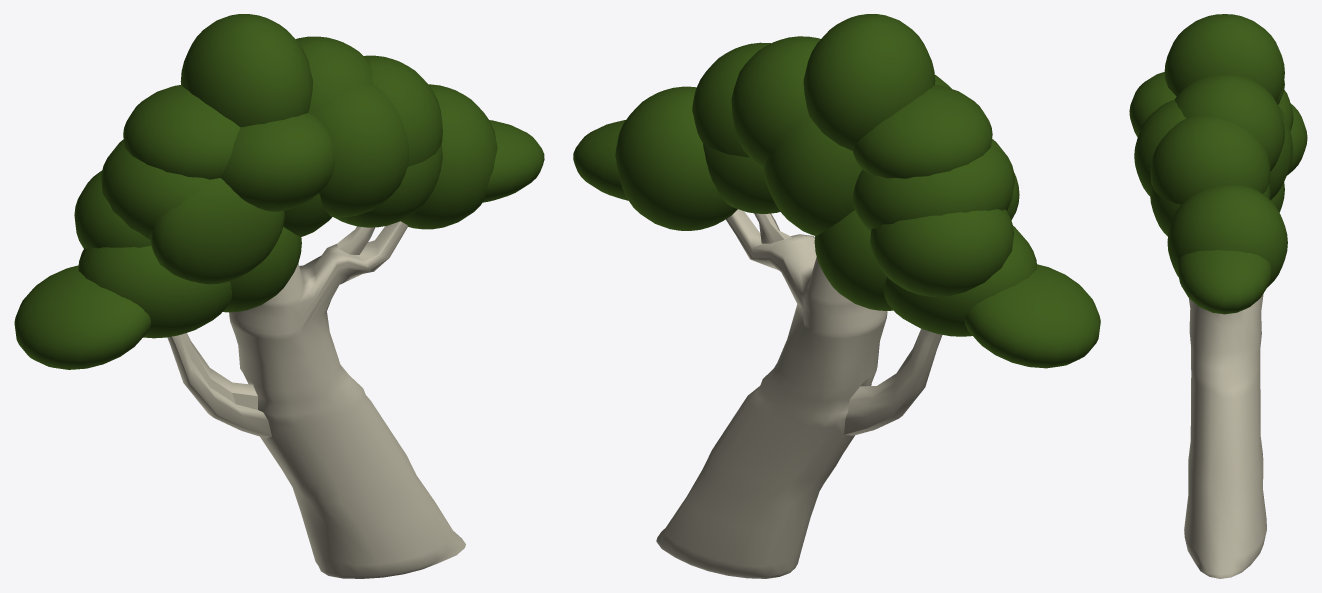
File: Cypress Tree.fbx
3 renders of one model, left to right at view 1: azimuth 30°, elevation 25°; view 2: azimuth 150°, elevation 25°; view 3: azimuth 270°, elevation 25°, orthographic. The views are drawn at different scales.
Parts seen in each view (by area): view 1: pCylinder3; view 2: pCylinder3; view 3: pCylinder3.
Boxes of the visible parts, <box> form: pCylinder3: <box>14,14,544,578</box>; pCylinder3: <box>573,14,1100,578</box>; pCylinder3: <box>1129,14,1307,578</box>.
Size of the model in its own units: 8.19 by 8.71 by 2.96.
